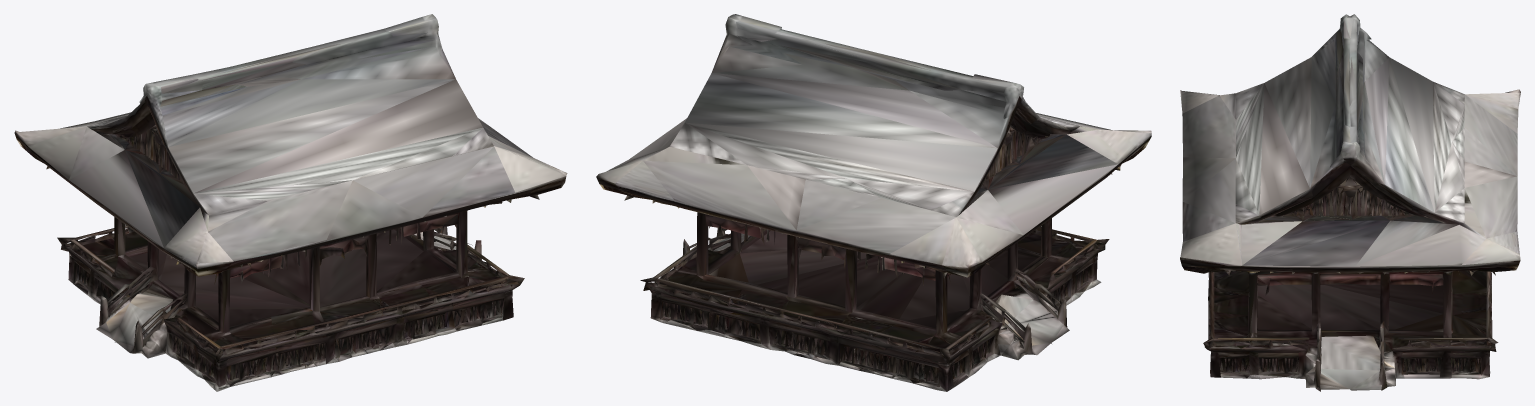
The model's file is dojo.glb.
3 renders of one model, left to right at view 1: azimuth 30°, elevation 25°; view 2: azimuth 150°, elevation 25°; view 3: azimuth 270°, elevation 25°, orthographic. The views are drawn at different scales.
Visible parts, largest first — view 1: Environment; view 2: Environment; view 3: Environment.
Boxes of the visible parts, x1,y1,x2,y2 form: Environment: (14, 14, 567, 391); Environment: (596, 14, 1151, 391); Environment: (1180, 14, 1520, 391).
Size of the model in its own units: 1.99 by 1.29 by 1.7.
Materials: 1 (1 with a texture image).
